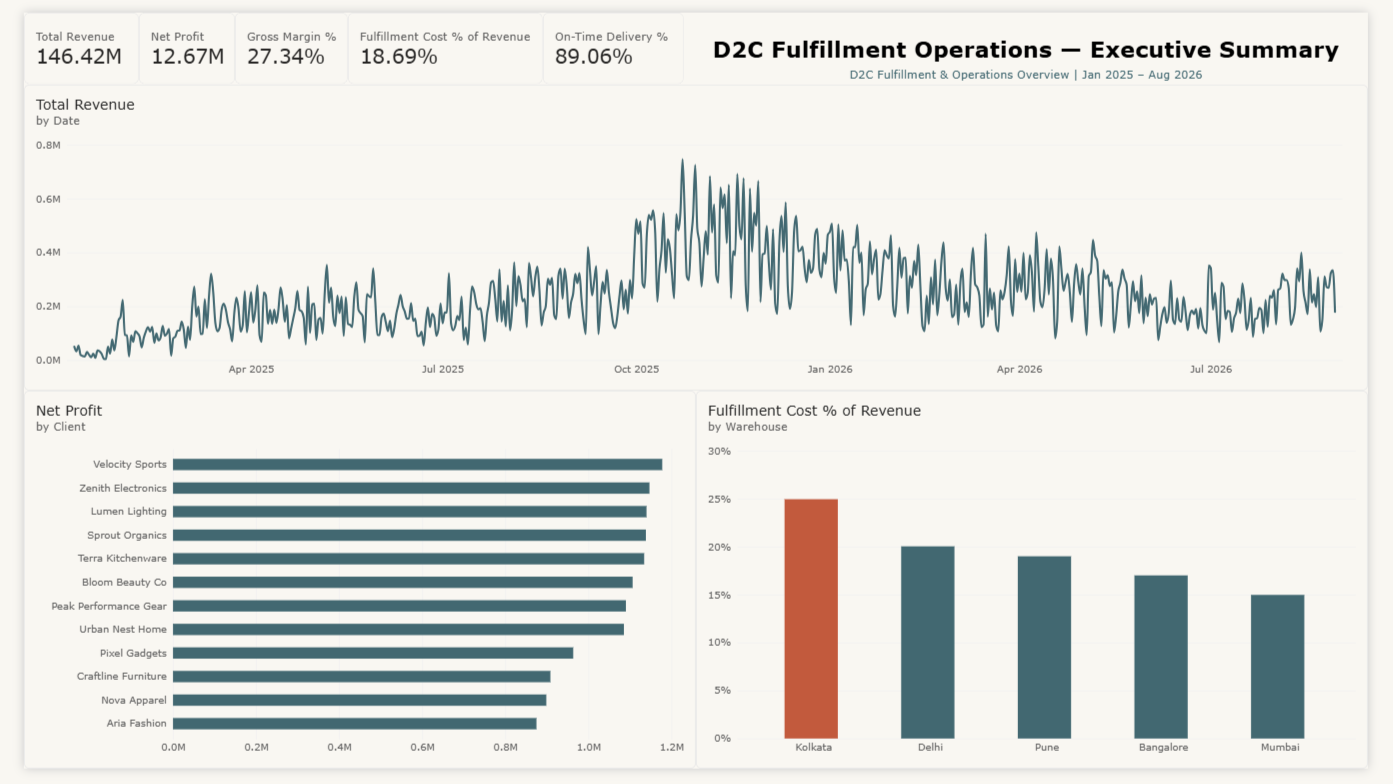

Layout of this report page (visuals, bound fields, positions):
{"tool":"powerbi","page":{"name":"Executive Summary","canvas":[1920,1080],"ordinal":0},"visuals":[{"type":"cardVisual","fields":{"Data":["_Measures.Total Revenue"]},"box":[0,0,164.3,102.9],"z":0},{"type":"cardVisual","fields":{"Data":["_Measures.Net Profit"]},"box":[164.3,0,137.1,102.9],"z":1000},{"type":"cardVisual","fields":{"Data":["_Measures.Gross Margin %"]},"box":[301.4,0,161.4,102.9],"z":2000},{"type":"cardVisual","fields":{"Data":["_Measures.Fulfillment Cost % of Revenue"]},"box":[462.9,0,278.6,102.9],"z":3000},{"type":"cardVisual","fields":{"Data":["_Measures.On-Time Delivery %"]},"box":[741.4,0,201.4,102.9],"z":4000},{"type":"lineChart","fields":{"Category":["Dim_Date.Date"],"Y":["_Measures.Total Revenue"]},"box":[0,103.3,1920,436.7],"z":5000},{"type":"clusteredColumnChart","fields":{"Category":["Dim_Warehouse.WarehouseName"],"Y":["_Measures.Fulfillment Cost % of Revenue"]},"box":[960,540,960,540],"z":6000},{"type":"clusteredBarChart","fields":{"Category":["Dim_Client.ClientName"],"Y":["_Measures.Net Profit"]},"box":[0,540,960,540],"z":7000},{"type":"textbox","box":[942.9,32.9,977.1,70],"z":8000},{"type":"textbox","box":[942.2,78.9,977.8,23.3],"z":9000}]}

Visuals, with their boxes in screenshot pixels (x1, y1, x2, y2), scaled from the page's 1920x1080 canvas onto the 1393x784 screenshot:
cardVisual - _Measures.Total Revenue: box=[0, 0, 119, 75]
cardVisual - _Measures.Net Profit: box=[119, 0, 219, 75]
cardVisual - _Measures.Gross Margin %: box=[219, 0, 336, 75]
cardVisual - _Measures.Fulfillment Cost % of Revenue: box=[336, 0, 538, 75]
cardVisual - _Measures.On-Time Delivery %: box=[538, 0, 684, 75]
lineChart - Dim_Date.Date x _Measures.Total Revenue: box=[0, 75, 1392, 392]
clusteredColumnChart - Dim_Warehouse.WarehouseName x _Measures.Fulfillment Cost % of Revenue: box=[696, 392, 1392, 783]
clusteredBarChart - Dim_Client.ClientName x _Measures.Net Profit: box=[0, 392, 696, 783]
textbox: box=[684, 24, 1392, 75]
textbox: box=[684, 57, 1392, 74]
